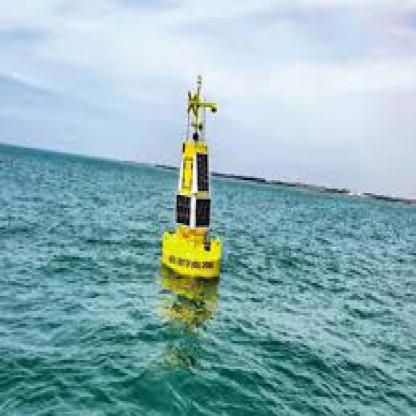buoy: (164, 67, 231, 283)
